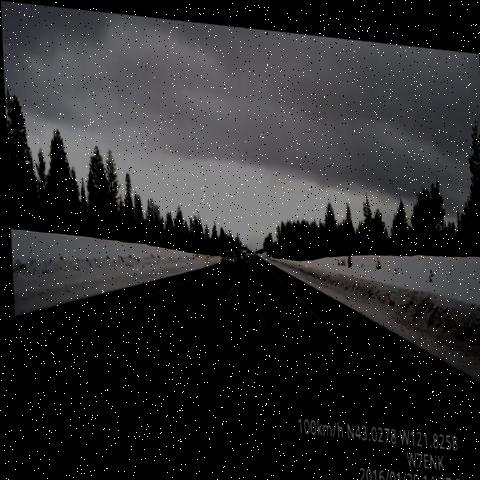pothole: (315, 354, 378, 419)
